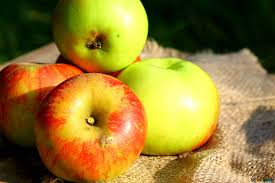apple: (42, 74, 144, 180), (119, 63, 223, 160), (51, 2, 148, 72), (2, 65, 81, 150)
